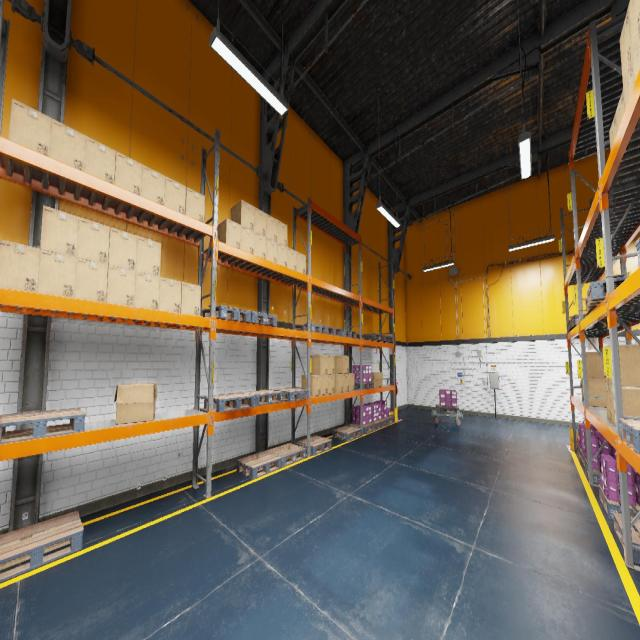box: (9, 98, 51, 156), (0, 239, 40, 293), (40, 205, 79, 257), (49, 119, 86, 171), (38, 249, 76, 297), (114, 383, 157, 424), (76, 217, 110, 264), (84, 136, 116, 183), (74, 258, 108, 302), (607, 344, 640, 386), (108, 227, 137, 271), (114, 151, 142, 196), (106, 265, 136, 306), (134, 271, 160, 310), (136, 236, 161, 276), (620, 8, 632, 88), (141, 165, 165, 205), (164, 176, 186, 215), (159, 277, 181, 313), (217, 218, 241, 249), (230, 200, 254, 230), (180, 281, 200, 316), (185, 187, 205, 222), (628, 0, 639, 59), (621, 386, 640, 416), (623, 61, 634, 110), (588, 378, 606, 407), (586, 351, 604, 378), (302, 374, 321, 396), (632, 36, 640, 85), (240, 225, 253, 254), (254, 207, 266, 236), (616, 89, 624, 132), (310, 355, 328, 374), (253, 232, 266, 258), (266, 214, 277, 242), (609, 112, 617, 150), (266, 237, 277, 263), (605, 384, 612, 424), (334, 356, 349, 374), (277, 242, 287, 268), (278, 220, 288, 246), (287, 247, 297, 271), (603, 346, 609, 385), (337, 373, 349, 392), (296, 252, 306, 274), (610, 385, 615, 426), (370, 372, 383, 387), (334, 373, 343, 392), (320, 374, 328, 394), (328, 355, 334, 374), (328, 375, 334, 394), (349, 374, 354, 391), (581, 379, 584, 401), (580, 380, 581, 387)
pallets: (0, 510, 83, 582), (0, 408, 86, 444), (598, 484, 640, 520), (612, 512, 640, 564), (587, 276, 629, 307), (236, 451, 282, 479), (204, 393, 255, 412), (266, 443, 306, 467), (203, 306, 251, 322), (619, 419, 640, 454), (240, 390, 284, 406), (297, 436, 332, 455), (242, 311, 277, 327), (270, 388, 309, 401), (332, 425, 362, 441), (586, 292, 606, 314), (586, 460, 601, 484), (296, 324, 328, 334), (350, 422, 376, 434), (570, 314, 587, 328), (436, 404, 459, 414), (336, 329, 357, 338), (322, 327, 342, 336), (362, 334, 384, 341), (355, 382, 374, 390), (635, 237, 640, 267), (372, 419, 386, 429), (381, 415, 395, 425), (581, 451, 586, 470), (379, 336, 393, 342), (577, 443, 581, 460), (568, 319, 572, 332)
